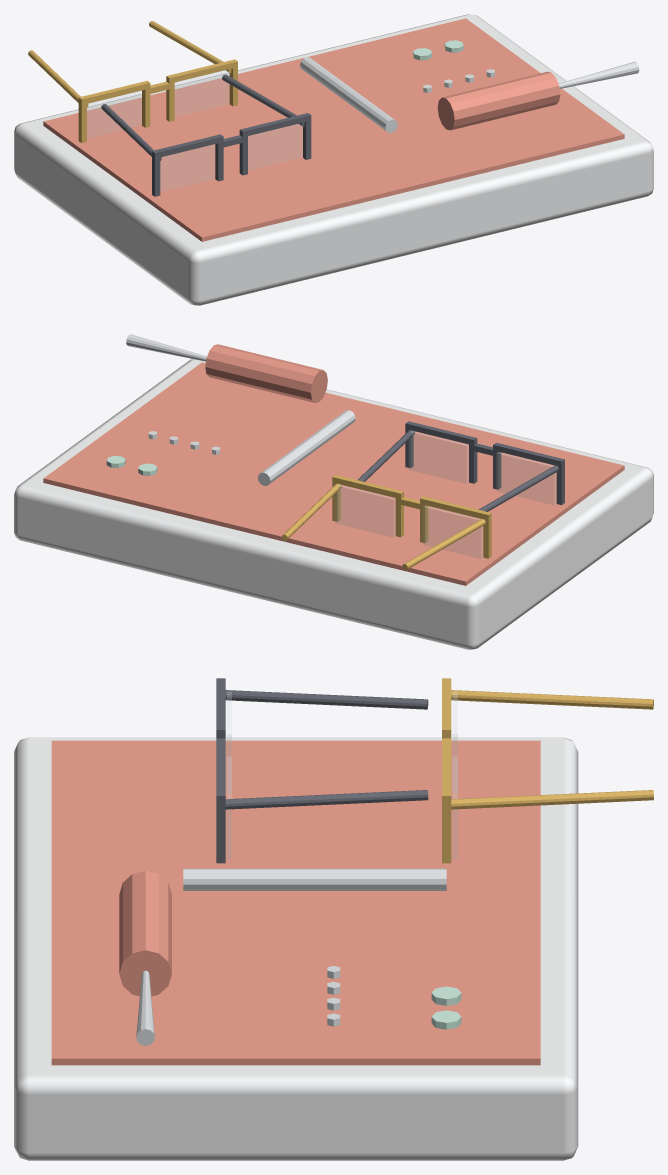
3 renders of one model, top to bottom at view 1: azimuth 30°, elevation 25°; view 2: azimuth 150°, elevation 25°; view 3: azimuth 270°, elevation 25°, orthographic. The views are drawn at different scales.
Visible parts, largest first — view 1: frame-tray-repair; view 2: frame-tray-repair; view 3: frame-tray-repair.
Boxes of the visible parts, x1,y1,x2,y2 form: frame-tray-repair: (14,14,653,305); frame-tray-repair: (14,334,653,649); frame-tray-repair: (14,678,653,1160).
Size of the model in its own units: 0.46 by 0.099 by 0.3403.
